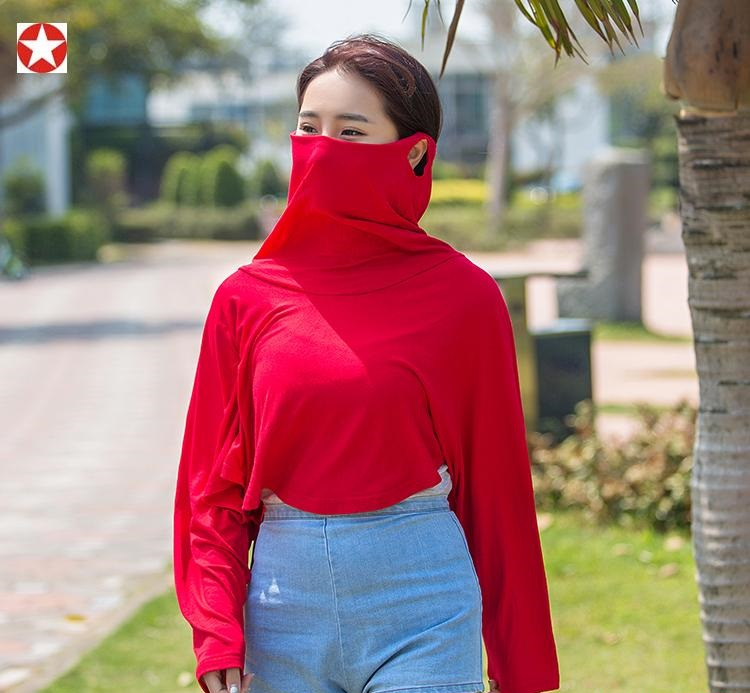face_mask: (294, 69, 397, 217)
